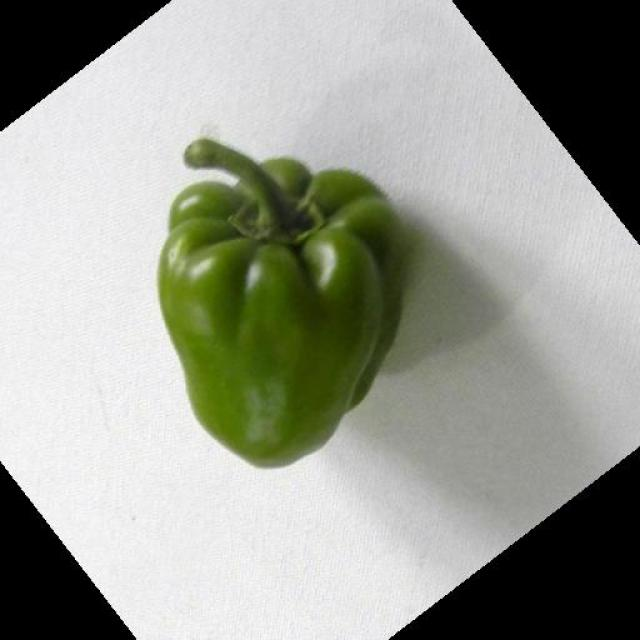Fresh_Capsicum: (136, 128, 418, 480)
